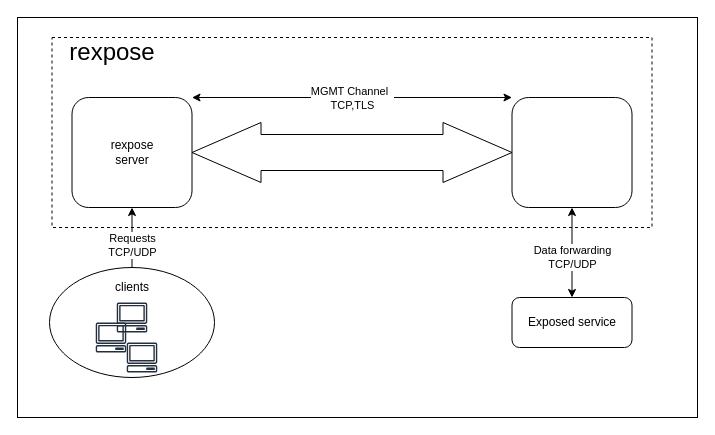
Some shapes in this 715 by 435 pixel diagram are drawn without their labels. Here are the shapes that lost their labels. From the top down, the box of each, then its label:
(191, 122, 512, 182): Data forwarding TCP, TLS optional
(511, 96, 632, 208): rexpose client
